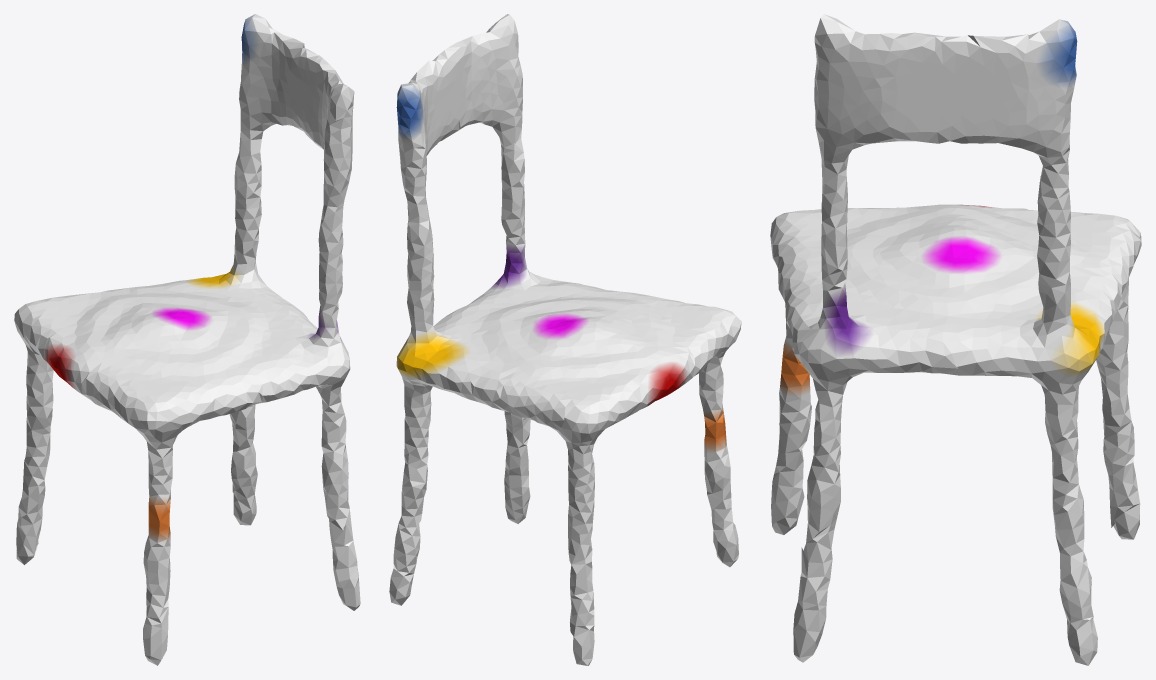
Rendered from target_chair.obj.
The picture shows the model from 3 angles, left to right: view 1: azimuth 30°, elevation 25°; view 2: azimuth 150°, elevation 25°; view 3: azimuth 270°, elevation 25°; orthographic projection. The views are drawn at different scales.
Bounding box in the file's own units: 0.8384 × 1.66 × 0.8666.
Materials: 1 (1 with a texture image).
